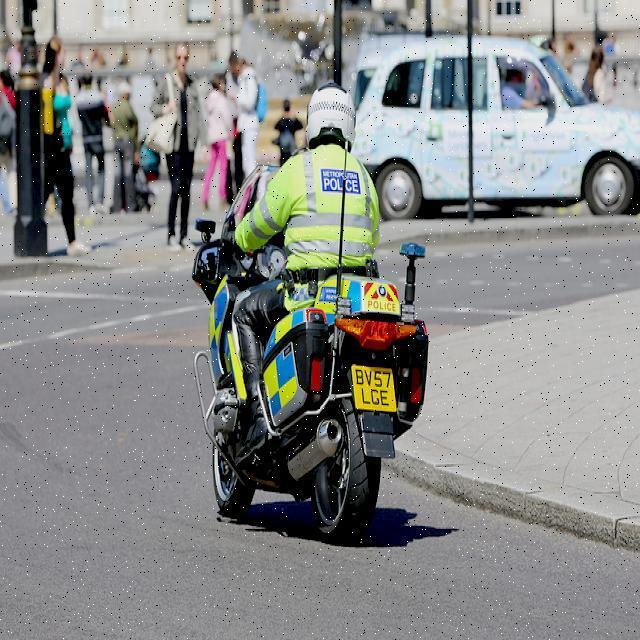car: (335, 28, 640, 243)
motorcycle: (185, 264, 436, 547)
plate: (346, 360, 403, 414)
